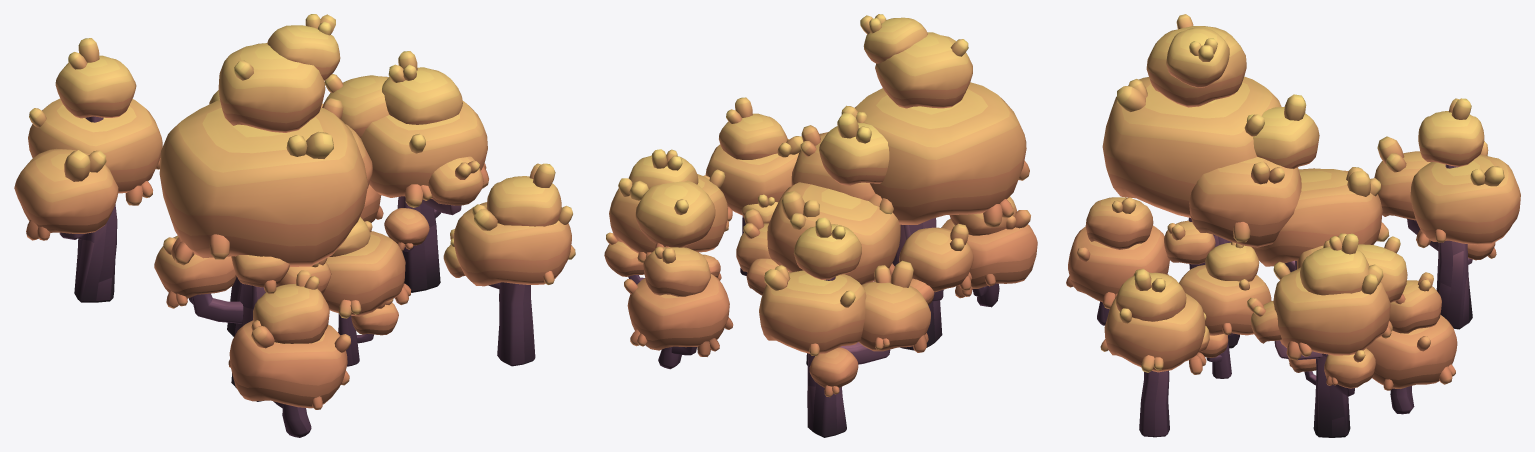
File: grassland_tree_group_col2.fbx
3 views of the same model, side by side, from view 1: azimuth 30°, elevation 25°; view 2: azimuth 150°, elevation 25°; view 3: azimuth 270°, elevation 25° (orthographic). The views are drawn at different scales.
Visible parts, largest first — view 1: grassland_tree_group_col2; view 2: grassland_tree_group_col2; view 3: grassland_tree_group_col2.
Boxes of the visible parts, x1=… form: grassland_tree_group_col2: x1=14, y1=14, x2=575, y2=437; grassland_tree_group_col2: x1=604, y1=14, x2=1037, y2=437; grassland_tree_group_col2: x1=1066, y1=14, x2=1520, y2=437.
Size of the model in its own units: 1728 by 1486 by 1906.
